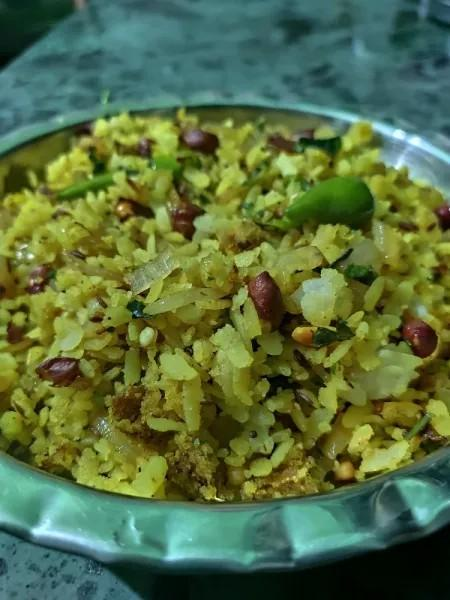Poha: (3, 104, 450, 496)
